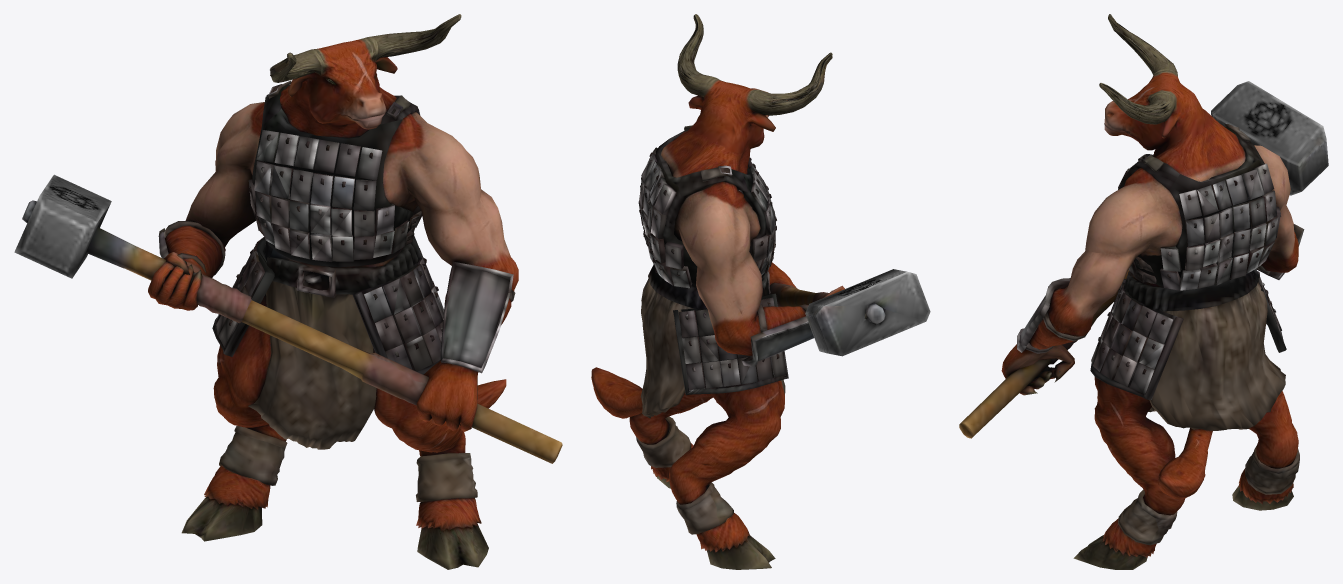
File: MZ4250 - Minotaur Barbarian 5 with Great Hammer_2.glb
The picture shows the model from 3 angles, left to right: view 1: azimuth 30°, elevation 25°; view 2: azimuth 150°, elevation 25°; view 3: azimuth 270°, elevation 25°; orthographic projection. The views are drawn at different scales.
Parts seen in each view (by area): view 1: Body.001; view 2: Body.001; view 3: Body.001.
Boxes of the visible parts, <box> form: Body.001: <box>14,14,562,569</box>; Body.001: <box>591,14,930,569</box>; Body.001: <box>959,14,1328,569</box>.
Size of the model in its own units: 88.94 by 104 by 73.27.
Materials: 4 (4 with a texture image).
